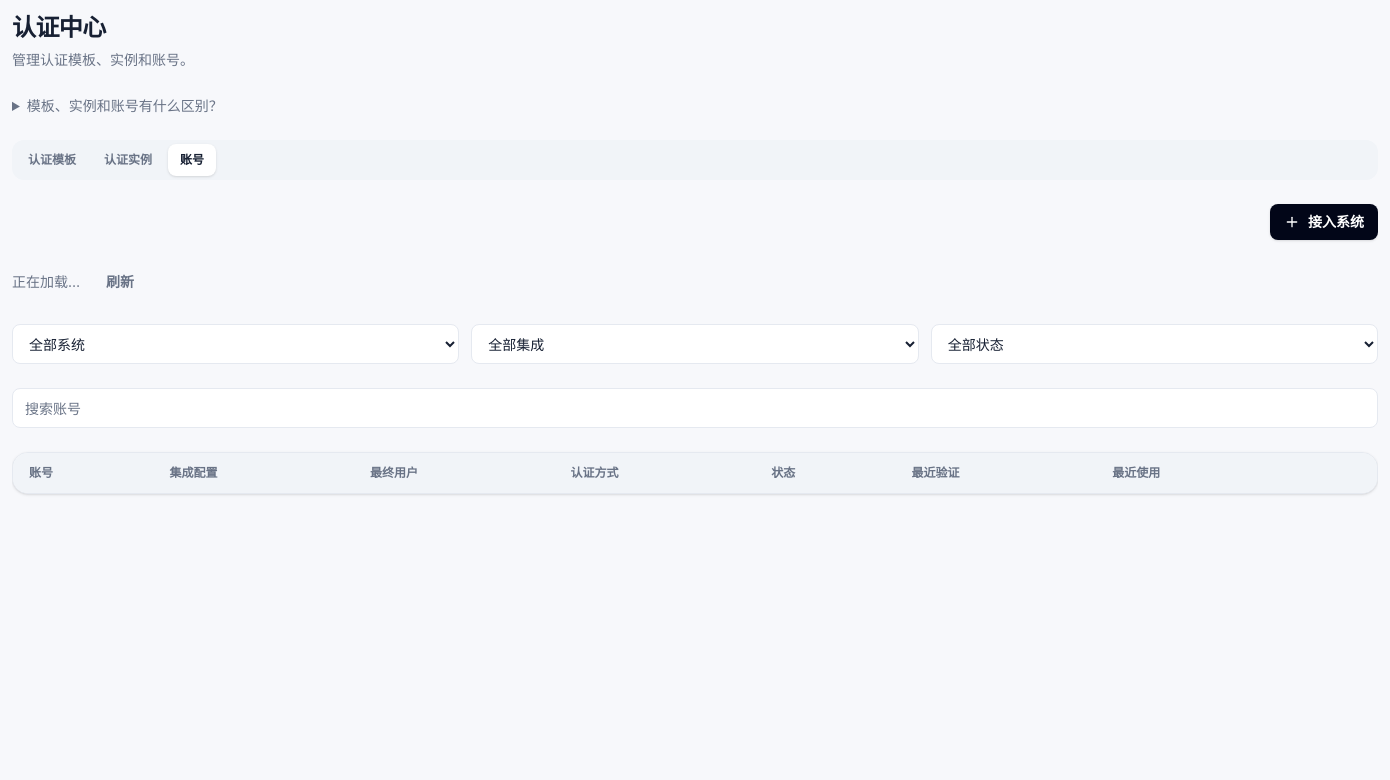
backend-backed console state › manages accounts inside the authentication center and switches tabs on the same route
Check: the number of headings "认证中心" is 1, box [12,13,106,42]
Click the tab "认证模板" at (52, 160), box [16,144,88,176]
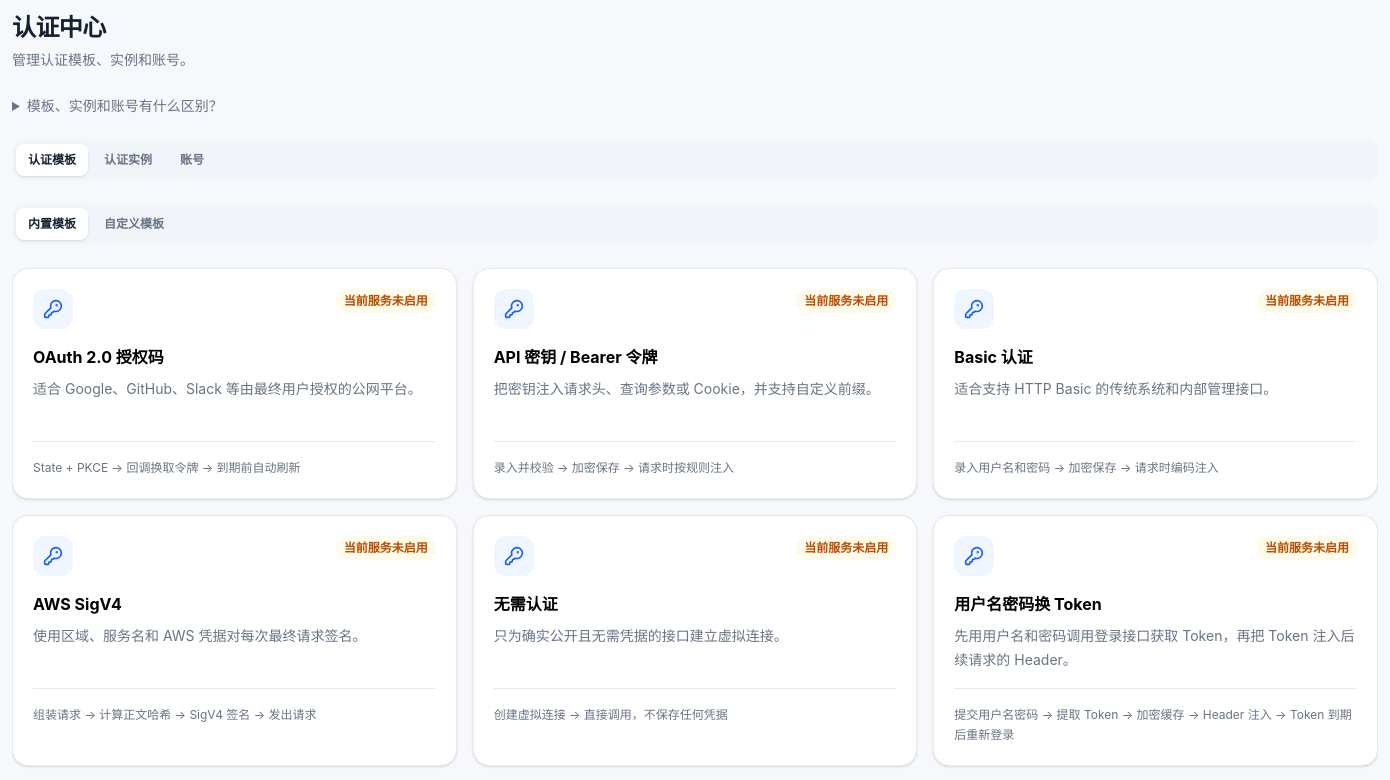
Check: the tab "内置模板" is shown, box [16,208,88,240]
Click the tab "账号" at (192, 160), box [168,144,216,176]
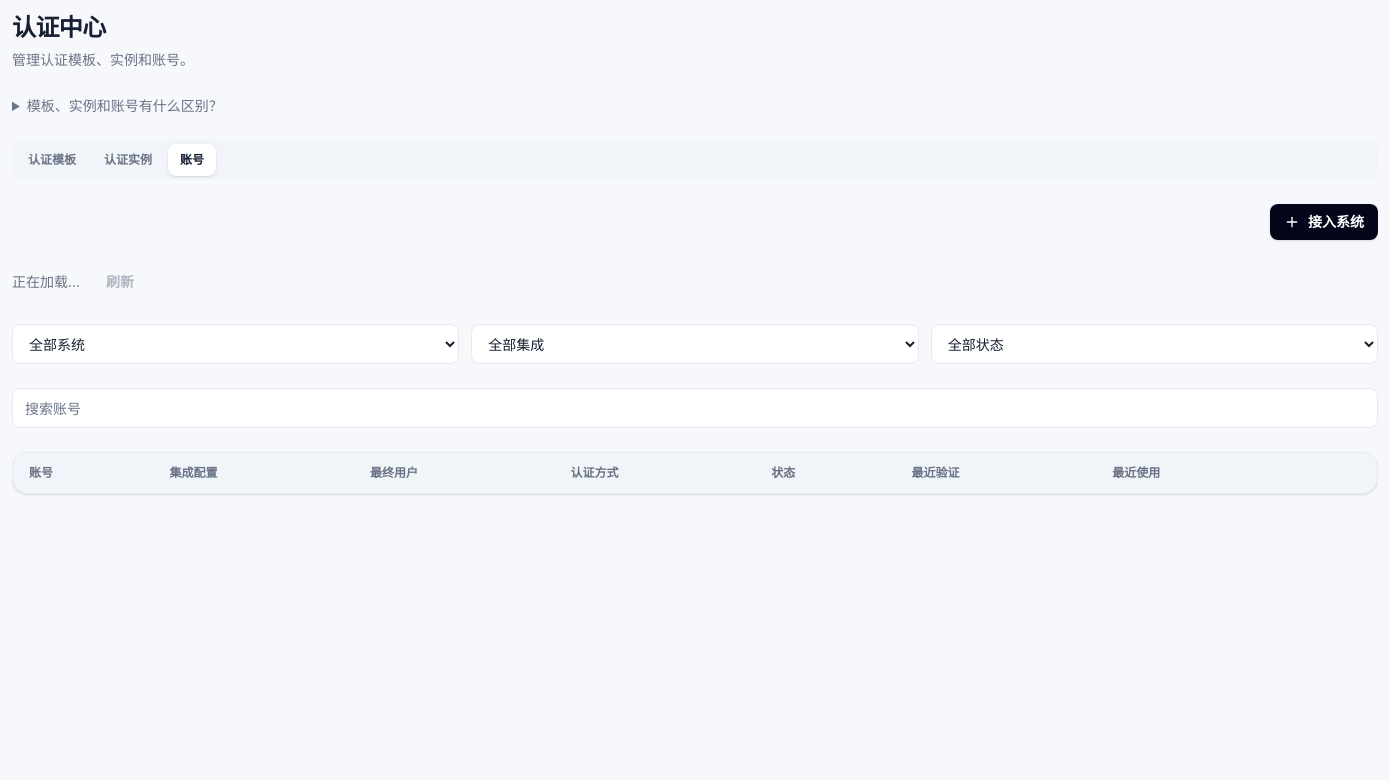
Check: the field labelled "搜索账号" is shown, box [12,388,1378,428]
